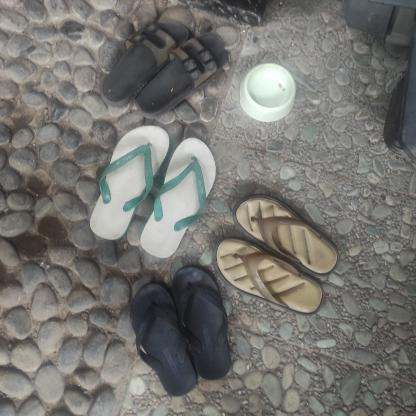Black Slide A: (133, 30, 228, 119), (100, 19, 191, 106)
Black Swallow A: (128, 281, 201, 398), (171, 262, 234, 380)
Brown Flip Flop: (232, 190, 340, 278), (213, 236, 325, 315)
Green Swallow: (138, 124, 217, 261), (88, 125, 170, 243)
